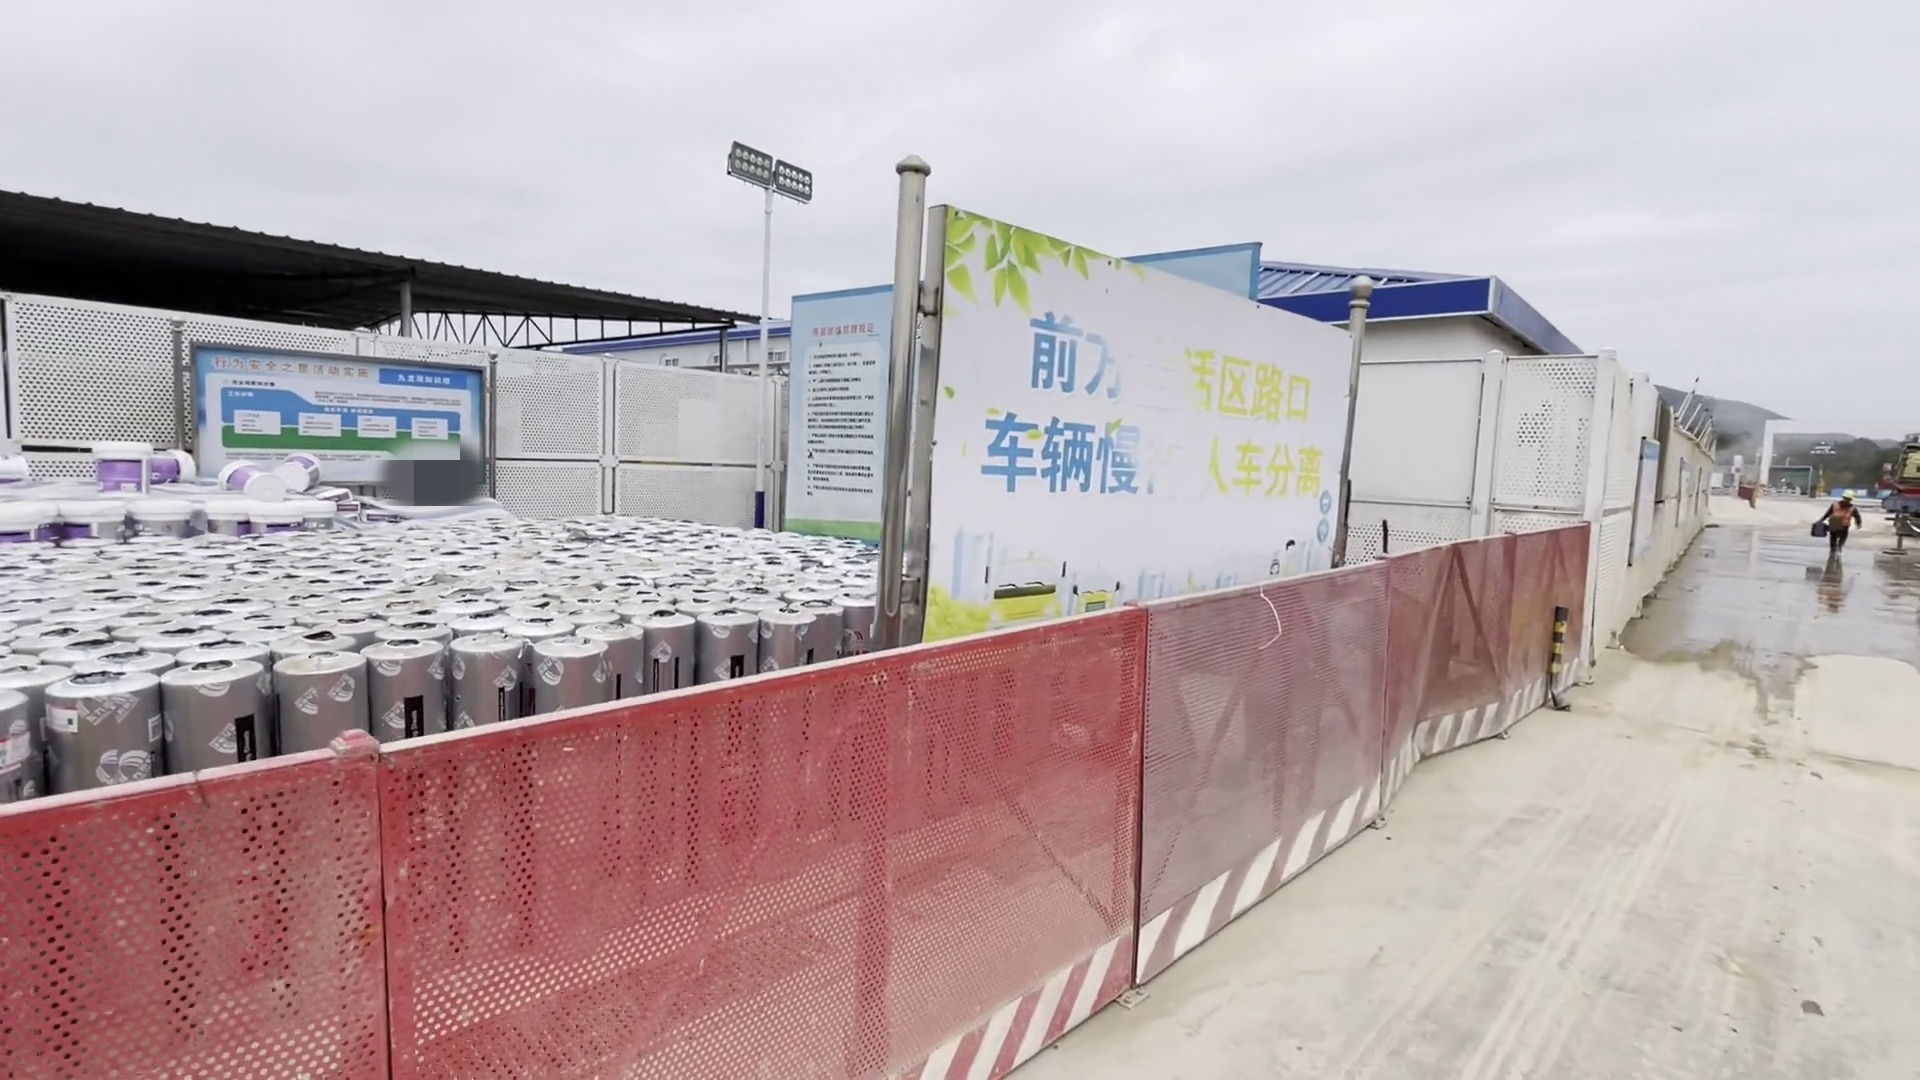fence: (15, 516, 1602, 1080)
helmet: (1840, 489, 1854, 503)
person: (1823, 485, 1856, 577)
vest: (1830, 499, 1855, 536)
